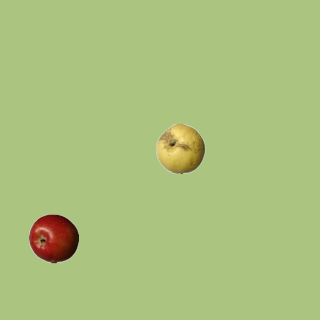Apple Braeburn: (28, 213, 78, 263)
Apple Golden 1: (155, 123, 205, 173)
